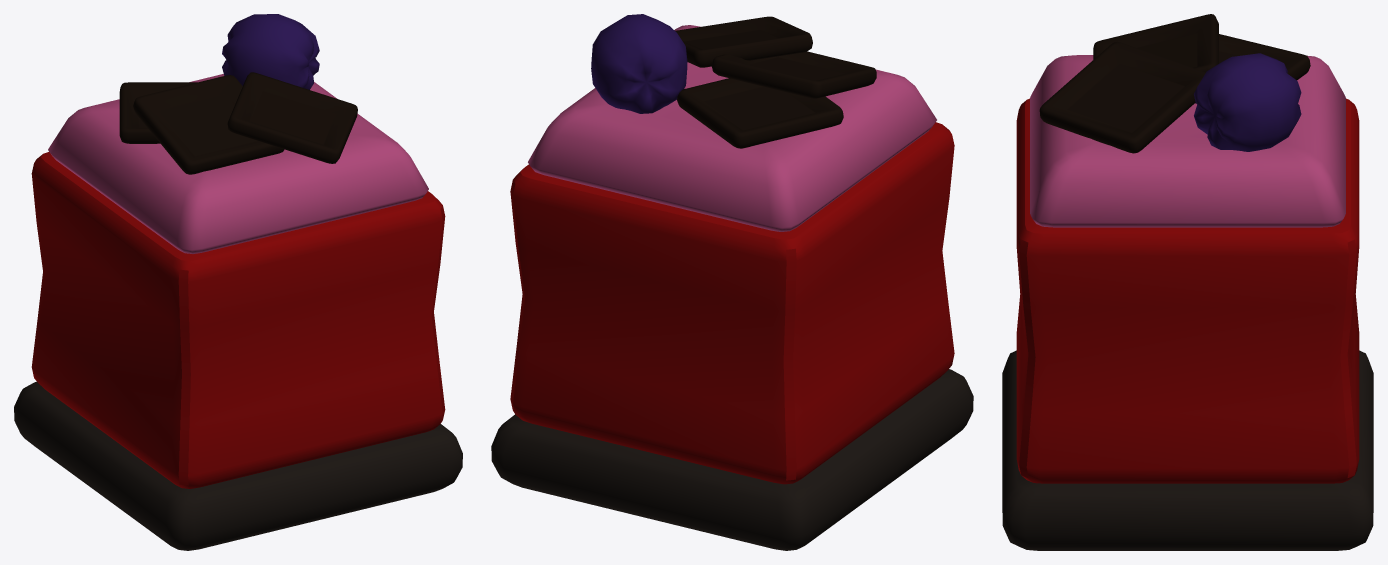
The model's file is Pastry_3.FBX.
3 views of the same model, side by side, from view 1: azimuth 30°, elevation 25°; view 2: azimuth 150°, elevation 25°; view 3: azimuth 270°, elevation 25° (orthographic). The views are drawn at different scales.
Visible parts, largest first — view 1: Pastry_3; view 2: Pastry_3; view 3: Pastry_3.
Part boxes in pixels (box(x1,y1,x2,y2)): Pastry_3: box(14, 14, 462, 550); Pastry_3: box(491, 14, 973, 550); Pastry_3: box(1002, 14, 1373, 550).
Bounding box in the file's own units: 823 × 823 × 1106.
